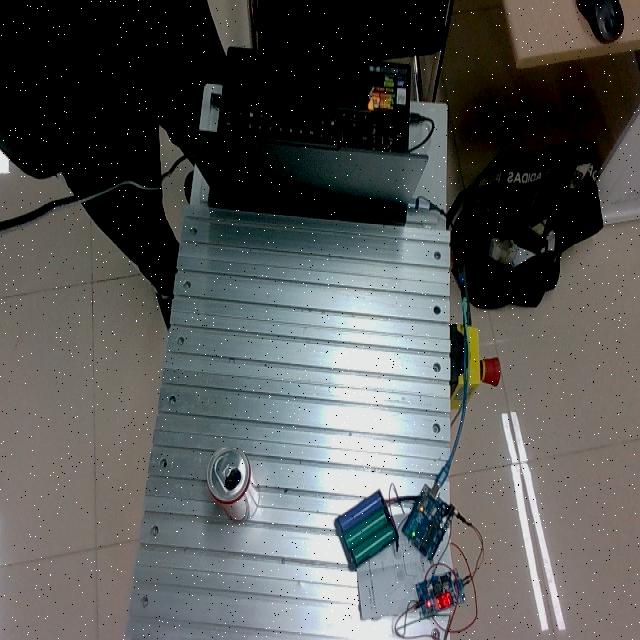coca: (207, 444, 260, 521)
